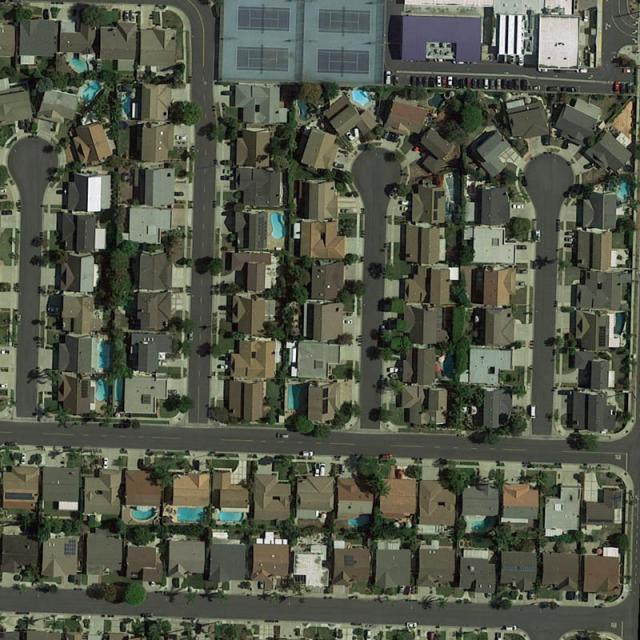vehicle: (387, 366, 403, 374), (582, 161, 595, 170), (389, 186, 399, 197), (562, 86, 577, 93), (320, 464, 328, 477), (530, 404, 537, 418), (505, 623, 517, 631), (511, 203, 524, 210), (535, 227, 541, 242), (221, 159, 233, 166), (546, 86, 560, 92), (390, 373, 402, 380), (346, 133, 355, 142), (140, 612, 153, 618), (176, 135, 189, 141), (221, 175, 234, 181), (490, 79, 497, 90), (466, 77, 473, 88), (43, 9, 50, 20), (386, 70, 391, 85), (406, 622, 418, 628), (102, 458, 108, 470), (302, 451, 314, 457), (614, 81, 620, 93), (518, 54, 524, 66), (496, 78, 502, 90), (353, 128, 360, 138), (315, 464, 320, 478), (379, 454, 393, 459), (223, 168, 234, 174), (47, 306, 58, 312), (622, 68, 633, 74), (340, 463, 346, 474), (276, 434, 289, 439), (528, 590, 535, 599), (366, 630, 372, 640), (20, 453, 26, 463), (189, 330, 194, 342), (342, 318, 352, 324), (621, 82, 626, 94), (584, 10, 589, 22), (508, 80, 514, 90), (484, 79, 490, 89), (410, 76, 416, 86), (423, 76, 428, 88), (130, 10, 135, 22), (627, 82, 632, 93), (522, 79, 527, 90), (514, 79, 519, 90), (478, 78, 483, 89), (447, 76, 452, 87), (123, 10, 128, 21), (417, 77, 423, 86), (458, 79, 464, 88), (529, 86, 542, 90), (401, 200, 411, 205), (2, 210, 12, 215), (394, 76, 399, 86), (429, 78, 434, 88), (397, 468, 402, 478), (473, 78, 477, 90), (438, 75, 442, 87), (334, 162, 343, 167), (517, 245, 526, 250), (16, 314, 21, 323), (452, 77, 457, 86), (429, 631, 434, 640), (564, 244, 575, 248), (576, 69, 587, 73), (442, 76, 446, 87), (219, 365, 227, 370), (565, 238, 575, 242), (515, 282, 525, 286), (174, 192, 184, 196), (19, 120, 24, 128), (510, 54, 514, 64), (502, 79, 506, 89), (565, 231, 574, 235), (518, 270, 527, 274), (1, 350, 10, 354), (259, 582, 263, 589), (1, 384, 6, 389), (385, 130, 388, 138), (1, 188, 7, 192), (1, 195, 7, 199)
